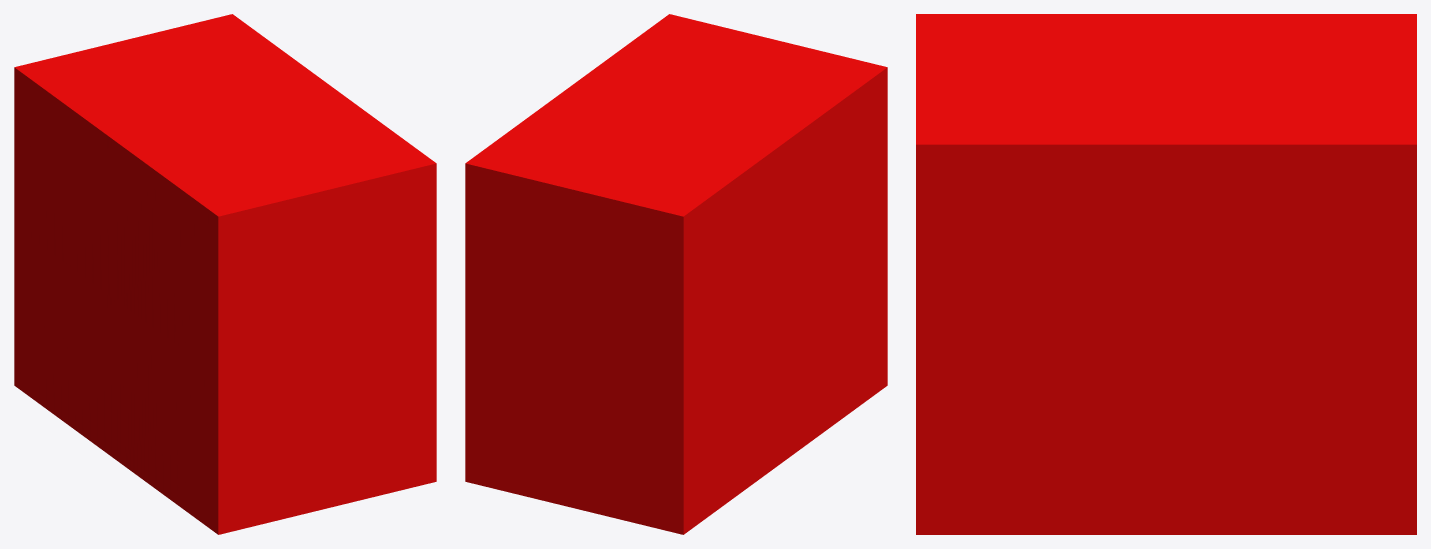
The model's file is ribcage_s_col.dae.
3 views of the same model, side by side, from view 1: azimuth 30°, elevation 25°; view 2: azimuth 150°, elevation 25°; view 3: azimuth 270°, elevation 25° (orthographic). The views are drawn at different scales.
Visible parts, largest first — view 1: node0; view 2: node0; view 3: node0.
Part boxes in pixels (left/top/right/bottom): node0: left=14, top=14, right=436, bottom=534; node0: left=465, top=14, right=887, bottom=534; node0: left=916, top=14, right=1416, bottom=534.
Size of the model in its own units: 0.2245 by 0.3129 by 0.3637.
